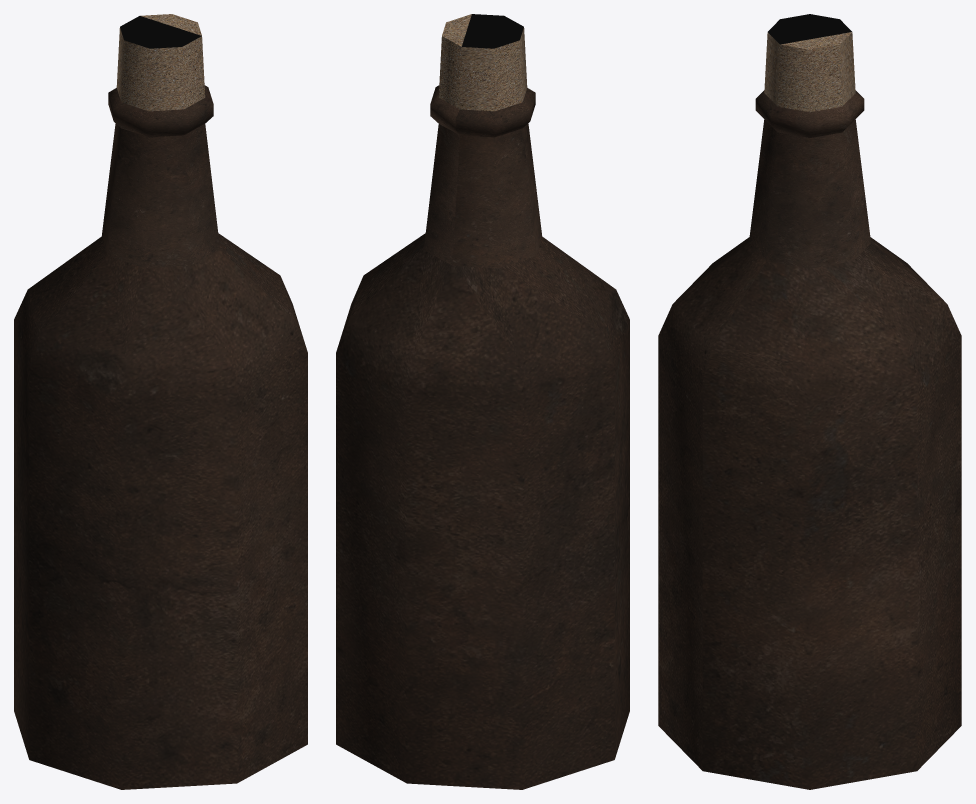
File: GlasflascheBraun_Mesh.fbx
3 views of the same model, side by side, from view 1: azimuth 30°, elevation 25°; view 2: azimuth 150°, elevation 25°; view 3: azimuth 270°, elevation 25° (orthographic).
Parts seen in each view (by area): view 1: GlasflascheBraun; view 2: GlasflascheBraun; view 3: GlasflascheBraun.
Part boxes in pixels (left/top/right/bottom): GlasflascheBraun: left=14, top=14, right=307, bottom=789; GlasflascheBraun: left=336, top=14, right=629, bottom=789; GlasflascheBraun: left=658, top=14, right=961, bottom=789.
Bounding box in the file's own units: 8 × 20.21 × 8.
